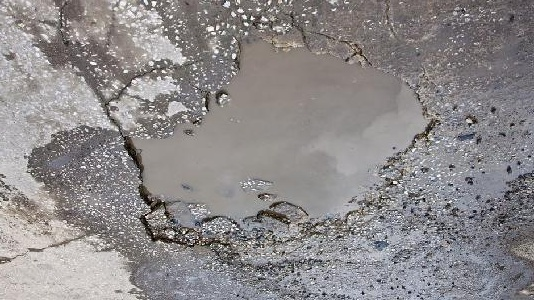pothole: (119, 33, 440, 250)
